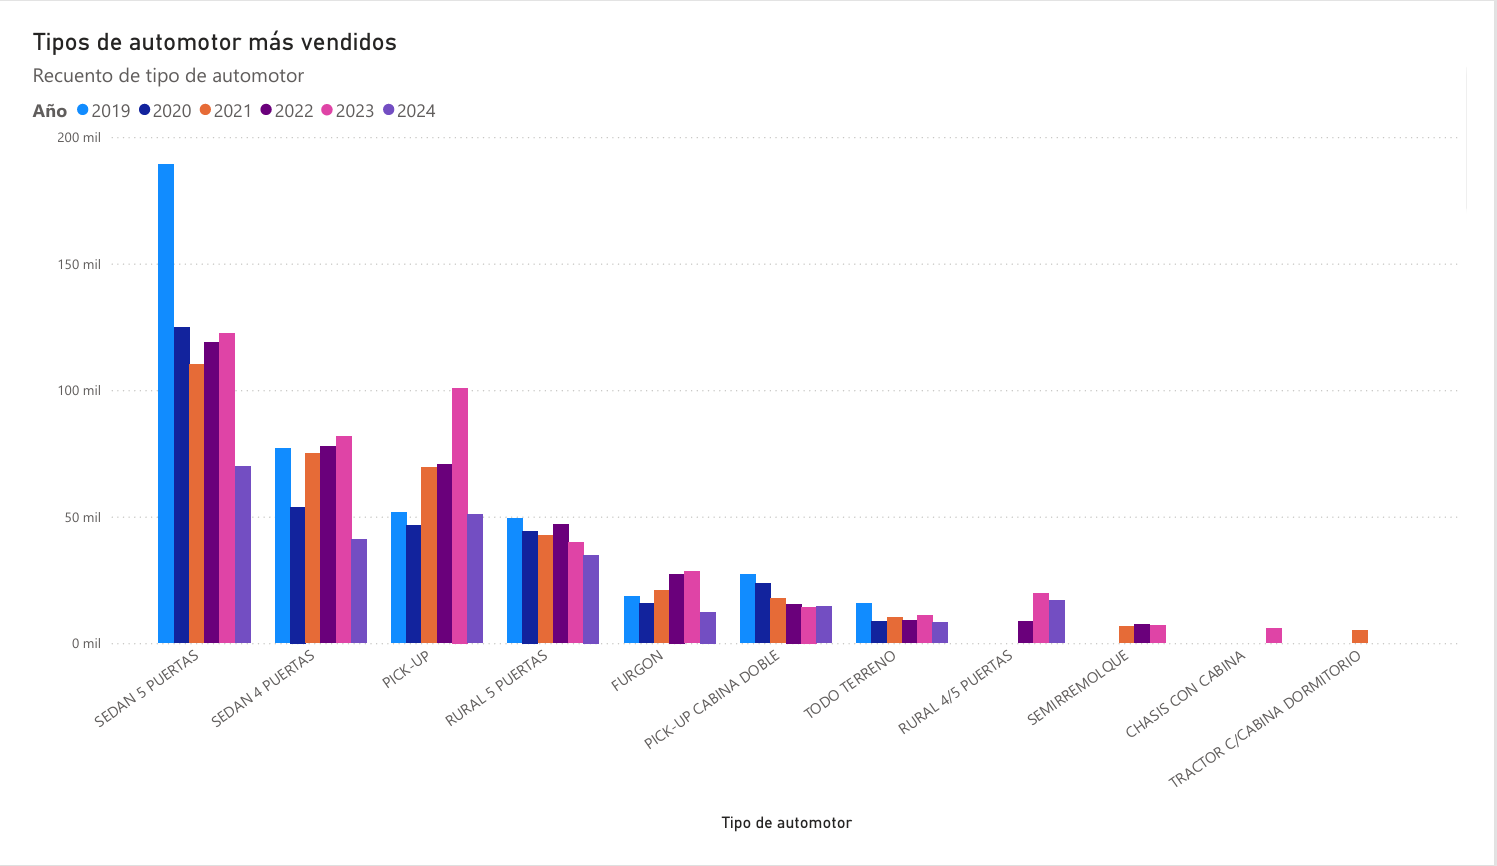

What the dashboard file says about the page in this screenshot:
{"tool":"powerbi","page":{"name":"Página 1","canvas":[1280,720],"ordinal":2},"visuals":[{"type":"clusteredColumnChart","title":"Tipos de automotor más vendidos","fields":{"Category":["inscripciones.automotor_tipo_descripcion"],"Y":["CountNonNull(inscripciones.automotor_marca_descripcion)"],"Series":["inscripciones.fecha_inscripcion_inicial.Variación.Jerarquía de fechas.Año"]},"box":[0,0,1280.3,720.4],"z":1000}]}

Visuals, with their boxes in screenshot pixels (x1, y1, x2, y2), scaled from the page's 1280x720 canvas onto the 1497x866 screenshot:
"Tipos de automotor más vendidos" clusteredColumnChart: [0, 0, 1496, 865]
